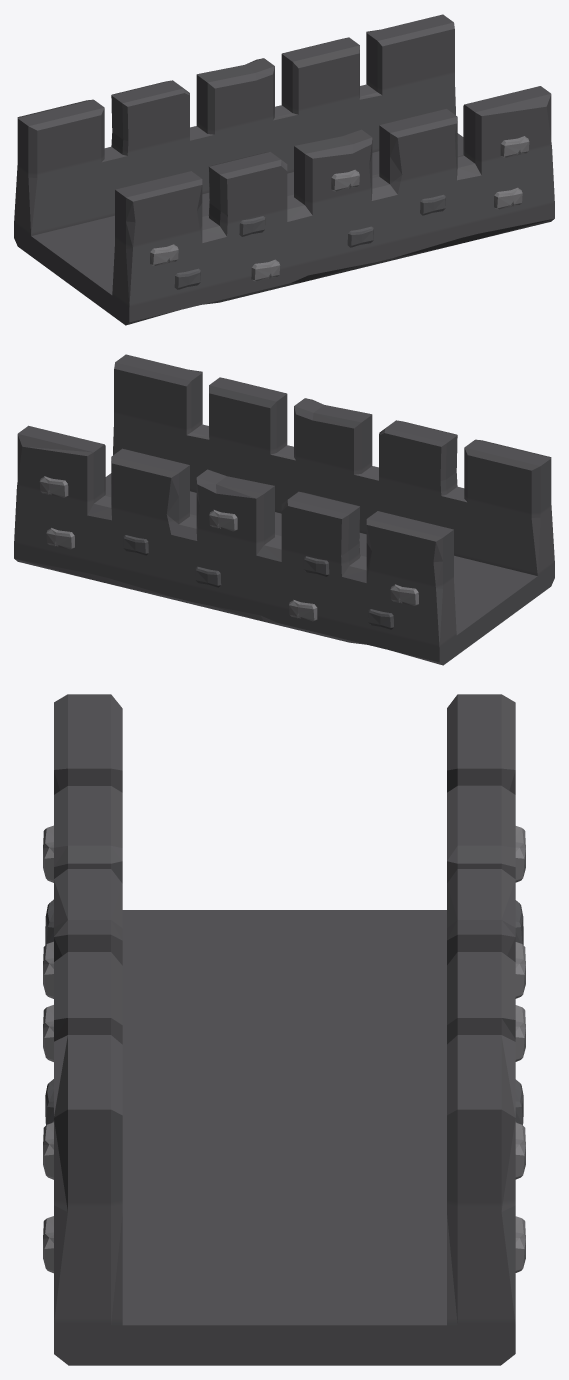
The model's file is SM_Bld_Castle_Tower_Wall_Top_01.gltf.
3 renders of one model, top to bottom at view 1: azimuth 30°, elevation 25°; view 2: azimuth 150°, elevation 25°; view 3: azimuth 270°, elevation 25°, orthographic. The views are drawn at different scales.
Parts seen in each view (by area): view 1: SM_Bld_Castle_Tower_Wall_Top_01; view 2: SM_Bld_Castle_Tower_Wall_Top_01; view 3: SM_Bld_Castle_Tower_Wall_Top_01.
Part boxes in pixels (x1=…): SM_Bld_Castle_Tower_Wall_Top_01: x1=14, y1=14, x2=554, y2=325; SM_Bld_Castle_Tower_Wall_Top_01: x1=14, y1=354, x2=554, y2=665; SM_Bld_Castle_Tower_Wall_Top_01: x1=43, y1=694, x2=525, y2=1365.
Size of the model in its own units: 5 by 1.44 by 2.46.
Materials: 1 (1 with a texture image).
